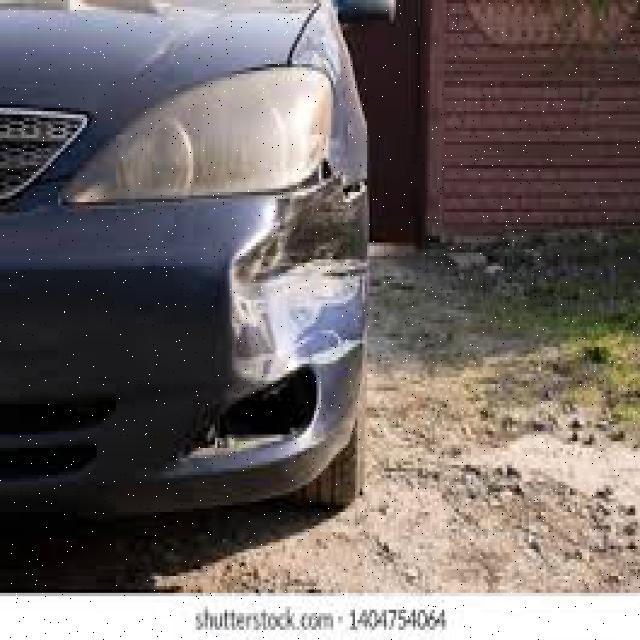front-bumper-dent: (1, 157, 376, 487)
